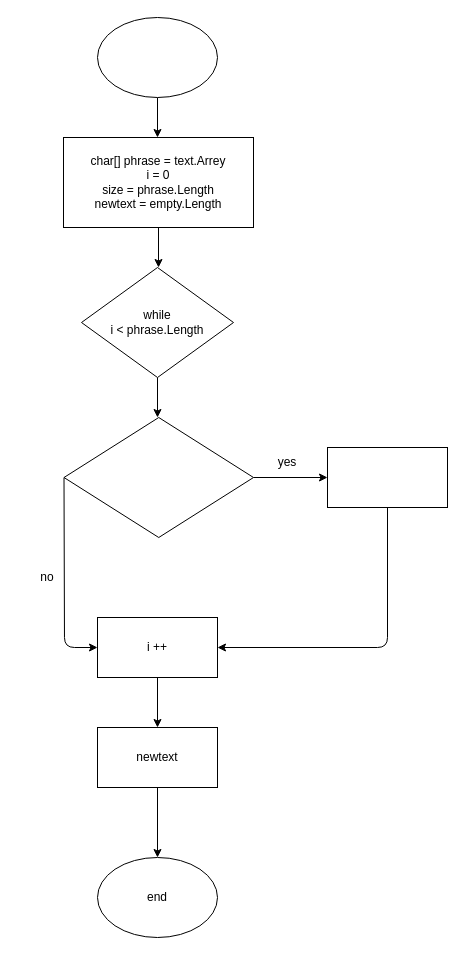
Some shapes in this 465 by 955 pixel diagram are drawn without their labels. Each missing label, with the centre of its shape:
if phrase [i] > = 0 < = 9: the point at 158,477
newtext = phrase [i]: the point at 387,477
исходная фраза text = 124fgsdf2548sadfgf: the point at 157,57
